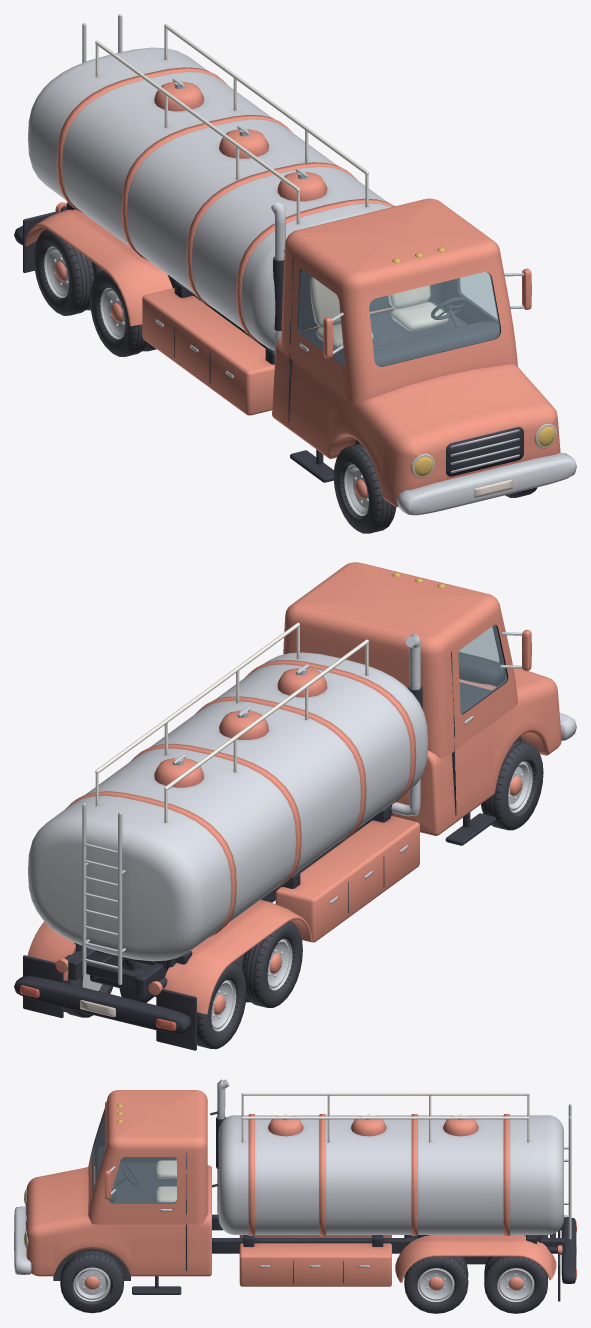
The model's file is tanker-truck.glb.
3 renders of one model, top to bottom at view 1: azimuth 30°, elevation 25°; view 2: azimuth 150°, elevation 25°; view 3: azimuth 270°, elevation 25°, orthographic. The views are drawn at different scales.
Parts seen in each view (by area): view 1: tanker-truck_body, tanker-truck_windows, tanker-truck_wheel_r2r, tanker-truck_wheel_fr, tanker-truck_wheel_r1r; view 2: tanker-truck_body, tanker-truck_wheel_r1r, tanker-truck_wheel_fr, tanker-truck_wheel_r2r, tanker-truck_windows; view 3: tanker-truck_body, tanker-truck_windows, tanker-truck_wheel_fl, tanker-truck_wheel_r1l, tanker-truck_wheel_r2l.
Part boxes in pixels (x1,y1,x2,y2): tanker-truck_body: [14, 14, 576, 515]; tanker-truck_windows: [299, 269, 499, 366]; tanker-truck_wheel_r2r: [33, 229, 102, 315]; tanker-truck_wheel_fr: [333, 443, 396, 533]; tanker-truck_wheel_r1r: [90, 270, 156, 356]; tanker-truck_body: [14, 562, 576, 1050]; tanker-truck_wheel_r1r: [234, 921, 302, 1007]; tanker-truck_wheel_fr: [481, 740, 543, 830]; tanker-truck_wheel_r2r: [197, 962, 246, 1049]; tanker-truck_windows: [458, 625, 506, 713]; tanker-truck_body: [14, 1079, 576, 1301]; tanker-truck_windows: [93, 1113, 176, 1202]; tanker-truck_wheel_fl: [60, 1250, 123, 1313]; tanker-truck_wheel_r1l: [404, 1256, 468, 1313]; tanker-truck_wheel_r2l: [484, 1256, 547, 1313].
Bounding box in the file's own units: 2.74 × 3.28 × 9.16.
20 materials, 7 textured.
